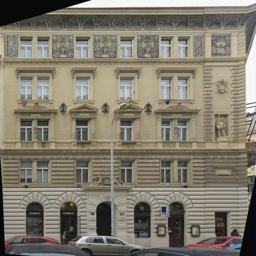building: (0, 0, 250, 232)
